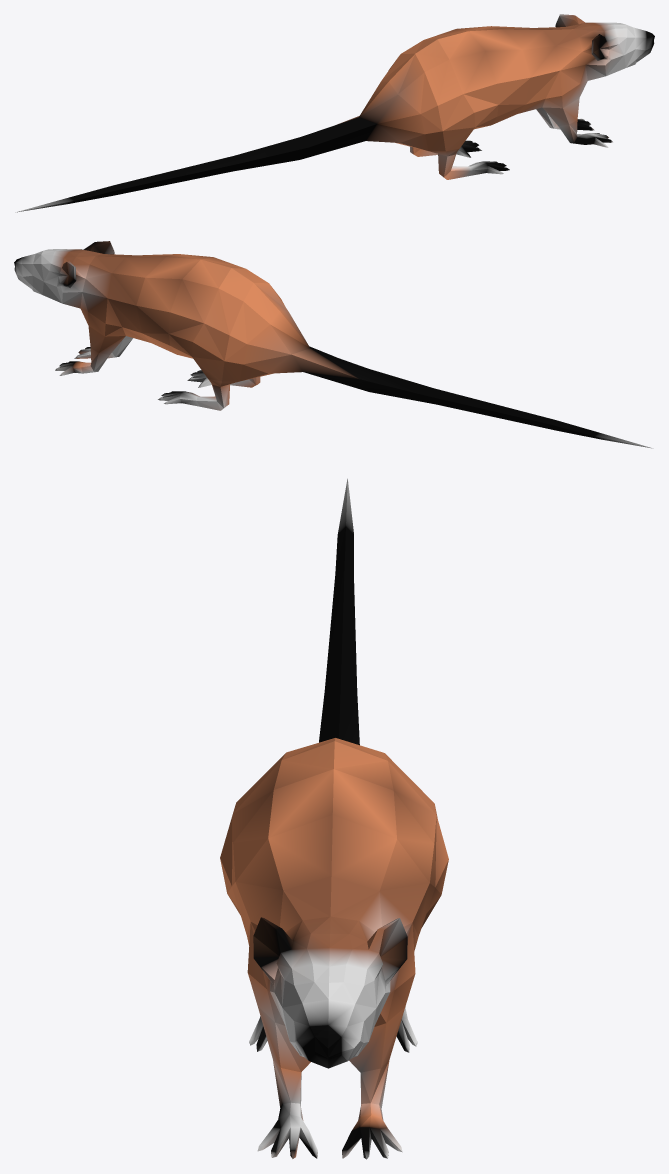
File: Rat.dae
3 renders of one model, top to bottom at view 1: azimuth 30°, elevation 25°; view 2: azimuth 150°, elevation 25°; view 3: azimuth 270°, elevation 25°, orthographic. The views are drawn at different scales.
Visible parts, largest first — view 1: grp1; view 2: grp1; view 3: grp1.
Part boxes in pixels (bbox=[...]): grp1: bbox=[15, 14, 654, 212]; grp1: bbox=[14, 241, 653, 448]; grp1: bbox=[220, 478, 448, 1159].
Bounding box in the file's own units: 1.44 × 0.2248 × 0.2863.
